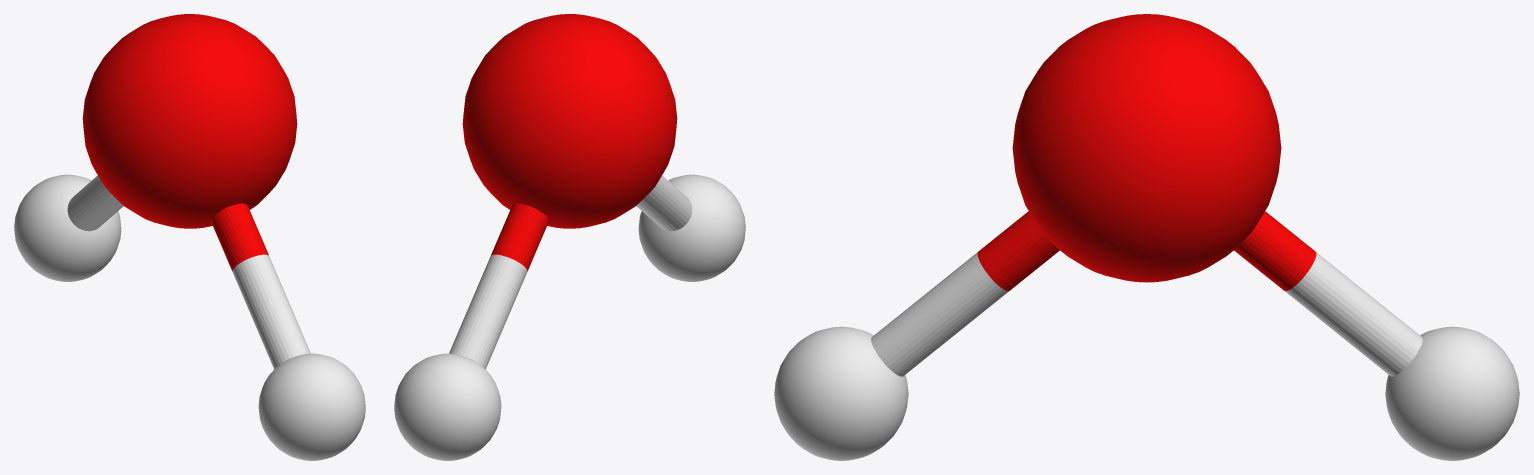
The model's file is water_1.fbx.
3 views of the same model, side by side, from view 1: azimuth 30°, elevation 25°; view 2: azimuth 150°, elevation 25°; view 3: azimuth 270°, elevation 25° (orthographic). The views are drawn at different scales.
Visible parts, largest first — view 1: O01, H03, H02, O01-H03, O01-H02; view 2: O01, H02, H03, O01-H02, O01-H03; view 3: O01, H02, H03, O01-H02, O01-H03.
Part boxes in pixels (x1,y1,x2,y2): O01: [82, 14, 297, 228]; H03: [258, 353, 365, 460]; H02: [14, 174, 121, 281]; O01-H03: [210, 203, 310, 369]; O01-H02: [67, 175, 123, 231]; O01: [462, 14, 677, 228]; H02: [394, 353, 501, 460]; H03: [638, 174, 745, 281]; O01-H02: [449, 203, 549, 369]; O01-H03: [636, 175, 692, 231]; O01: [1012, 14, 1281, 282]; H02: [1385, 326, 1519, 460]; H03: [774, 326, 908, 460]; O01-H02: [1234, 211, 1422, 376]; O01-H03: [871, 211, 1059, 376].
Size of the model in its own units: 64 by 113 by 178.
